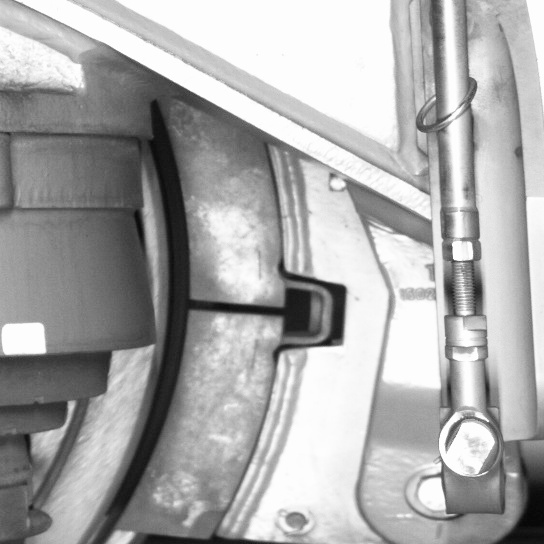KnifeSwitch: (76, 136, 312, 542)
